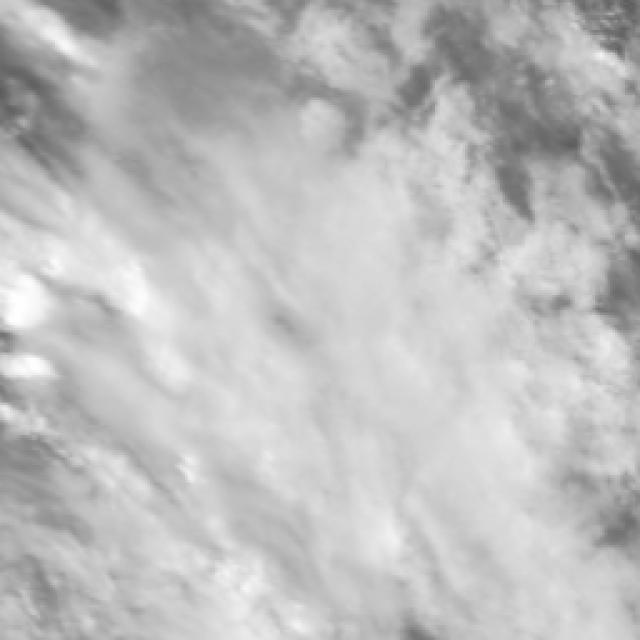CB: (188, 186, 442, 492)
